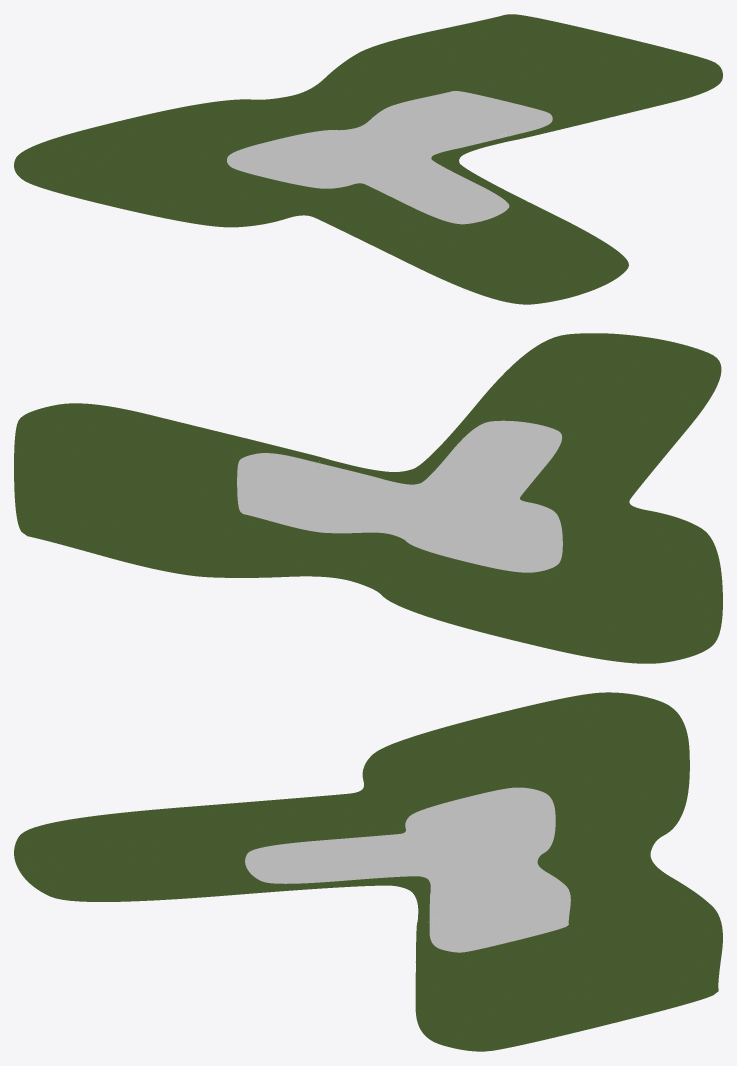
File: AHHHHHHHHHHHHHH2.dae
3 views of the same model, one above another, from view 1: azimuth 30°, elevation 25°; view 2: azimuth 150°, elevation 25°; view 3: azimuth 270°, elevation 25° (orthographic). The views are drawn at different scales.
Parts seen in each view (by area): view 1: 1GRASS0-col, 1ROAD0-col; view 2: 1GRASS0-col, 1ROAD0-col; view 3: 1GRASS0-col, 1ROAD0-col.
Part boxes in pixels (<box>): 1GRASS0-col: <box>14,14,722,304</box>; 1ROAD0-col: <box>227,91,552,224</box>; 1GRASS0-col: <box>14,333,722,663</box>; 1ROAD0-col: <box>237,420,562,572</box>; 1GRASS0-col: <box>14,692,722,1051</box>; 1ROAD0-col: <box>245,787,570,952</box>.
Size of the model in its own units: 1210 by 1009 by 1.02.
